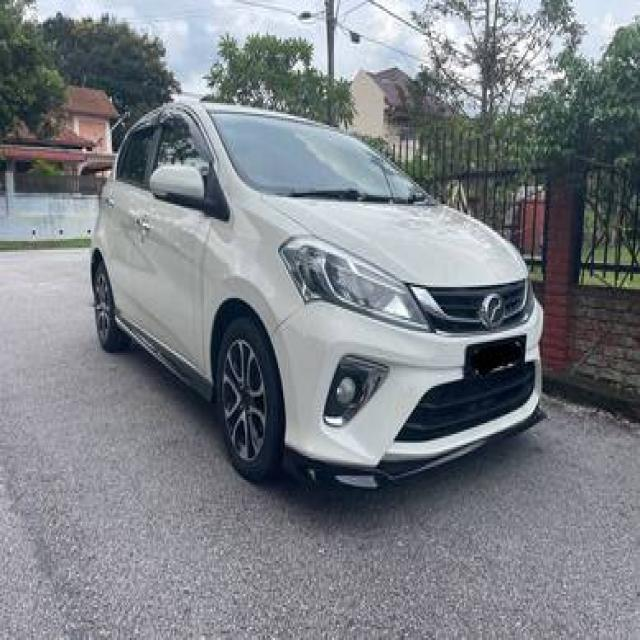PeroduaMyvi: (87, 94, 546, 491)
